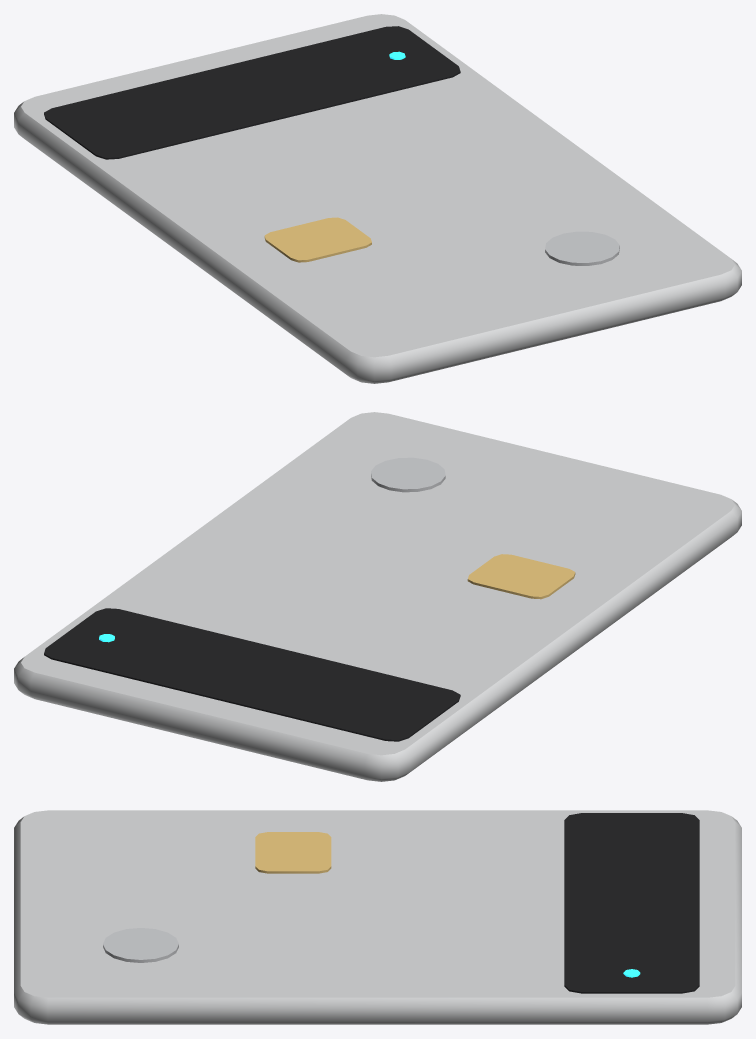
The model's file is nz_keyfob_card.glb.
3 views of the same model, one above another, from view 1: azimuth 30°, elevation 25°; view 2: azimuth 150°, elevation 25°; view 3: azimuth 270°, elevation 25° (orthographic).
Parts seen in each view (by area): view 1: nz_keyfob_card; view 2: nz_keyfob_card; view 3: nz_keyfob_card.
Part boxes in pixels (left/top/right/bottom): nz_keyfob_card: left=14, top=14, right=741, bottom=383; nz_keyfob_card: left=14, top=412, right=741, bottom=781; nz_keyfob_card: left=14, top=810, right=741, bottom=1024.
Bounding box in the file's own units: 0.054 × 0.0039 × 0.086.
